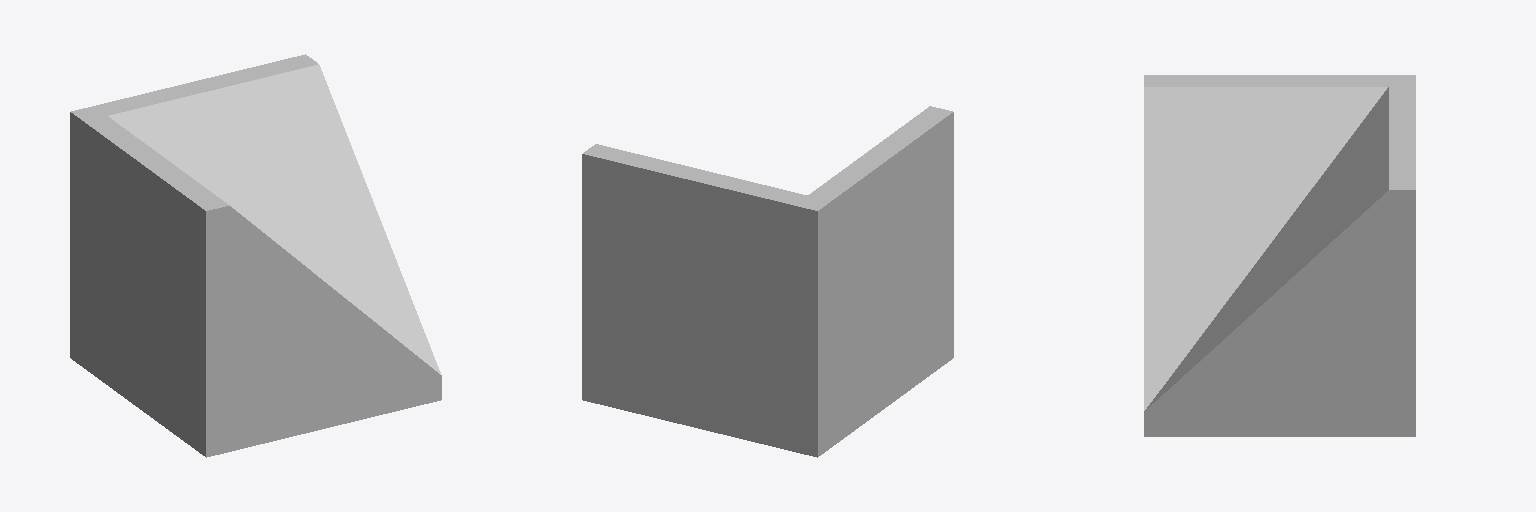
The model's file is Inner_Corner_Stair_Collider.obj.
3 renders of one model, left to right at view 1: azimuth 30°, elevation 25°; view 2: azimuth 150°, elevation 25°; view 3: azimuth 270°, elevation 25°, orthographic.
Visible parts, largest first — view 1: Inner_Corner_stair_Cube.012; view 2: Inner_Corner_stair_Cube.012; view 3: Inner_Corner_stair_Cube.012.
Boxes of the visible parts, <box> form: Inner_Corner_stair_Cube.012: <box>70,54,441,457</box>; Inner_Corner_stair_Cube.012: <box>582,106,953,457</box>; Inner_Corner_stair_Cube.012: <box>1144,75,1415,436</box>.
Bounding box in the file's own units: 1 × 1 × 1.